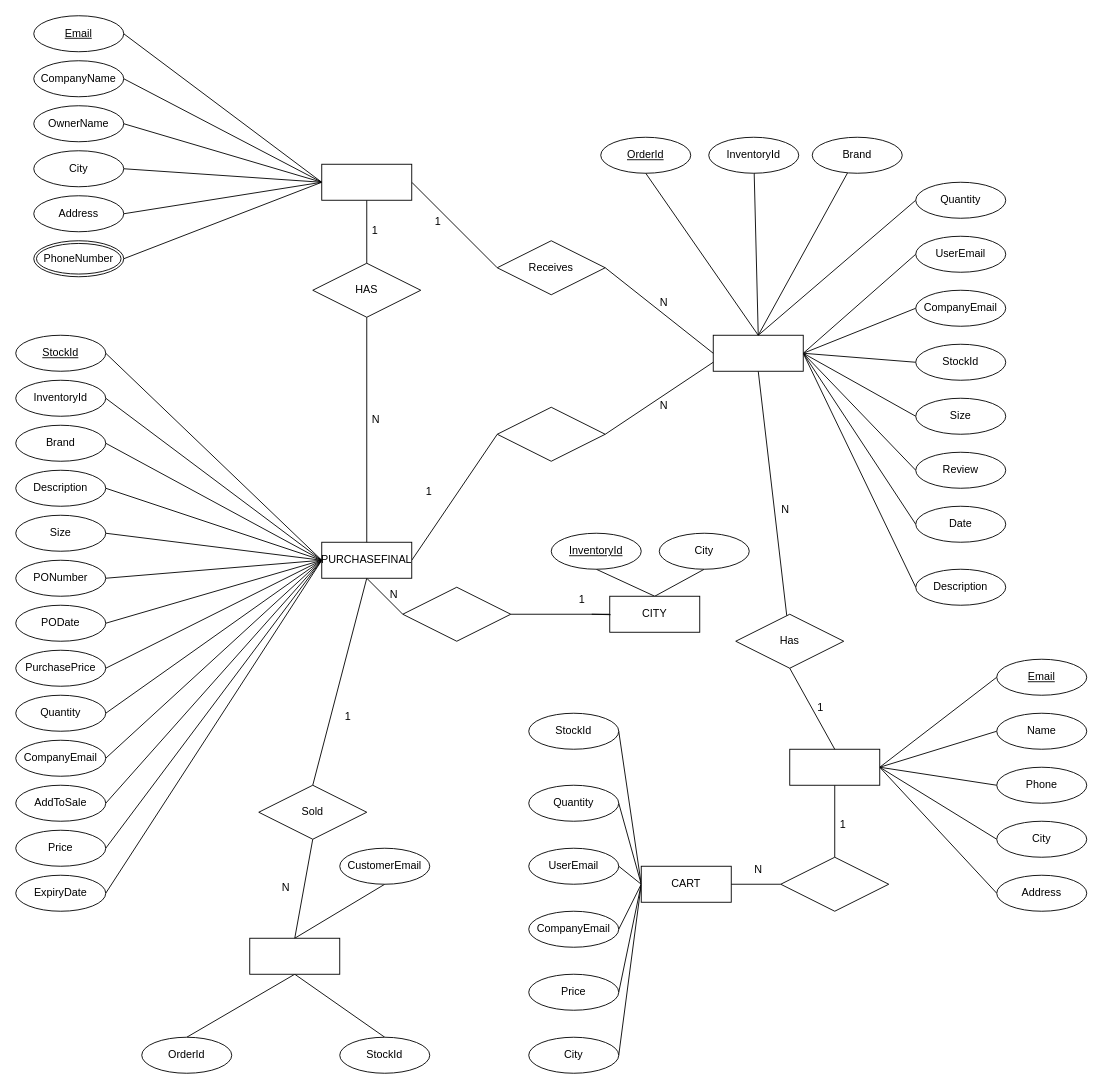
The diagram is 1103 pixels wide and 1089 high, and some of its shapes have lost their labels. Here are the shapes that lost their labels. From the top down, the box of each, then its label:
(321, 163, 412, 200): COMPANY
(712, 334, 803, 371): ORDERS
(496, 406, 605, 461): Relationship
(402, 586, 511, 641): Present in
(789, 748, 880, 785): CUSTOMER
(780, 856, 889, 911): Has Items in
(249, 937, 340, 974): SALES
